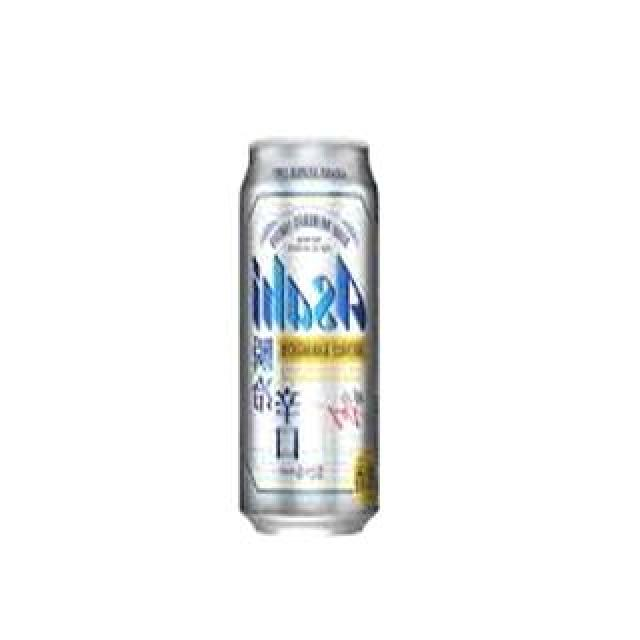Can: (214, 131, 396, 545)
